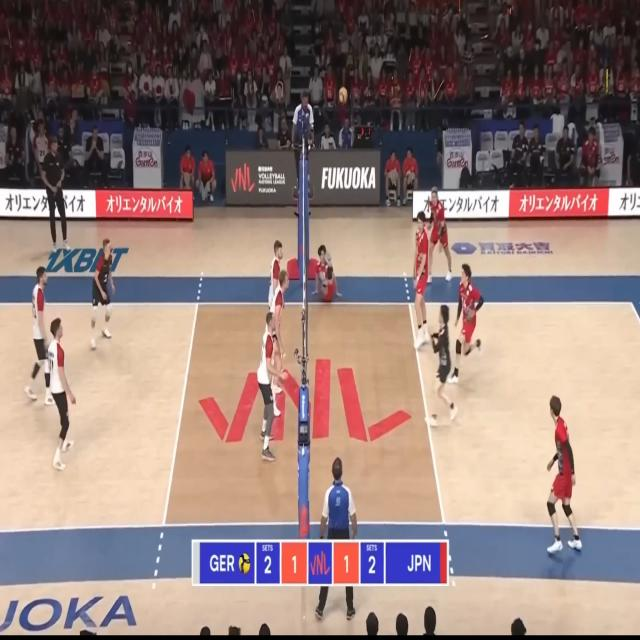ball: (338, 86, 348, 104)
